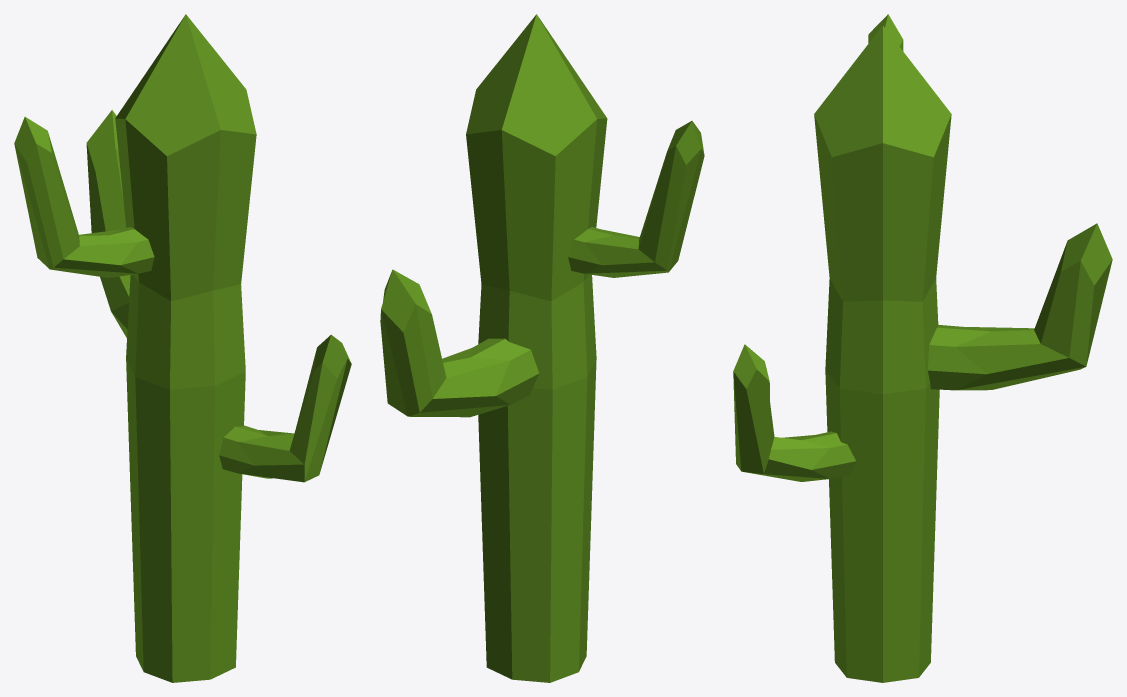
Rendered from Cactus_3.fbx.
3 views of the same model, side by side, from view 1: azimuth 30°, elevation 25°; view 2: azimuth 150°, elevation 25°; view 3: azimuth 270°, elevation 25° (orthographic).
Visible parts, largest first — view 1: Cactus3_mesh; view 2: Cactus3_mesh; view 3: Cactus3_mesh.
Boxes of the visible parts, bbox=[...] form: Cactus3_mesh: bbox=[14, 14, 351, 682]; Cactus3_mesh: bbox=[380, 14, 704, 682]; Cactus3_mesh: bbox=[733, 14, 1112, 682].
Bounding box in the file's own units: 105 × 245 × 132.
